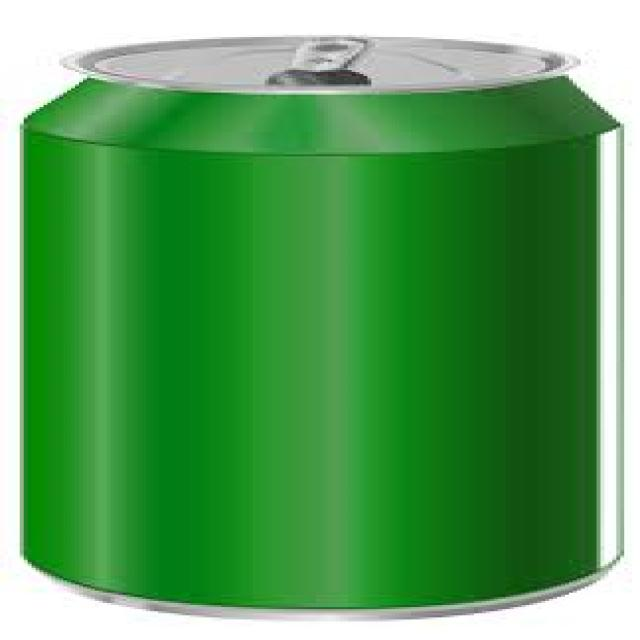metal: (20, 33, 616, 609)
